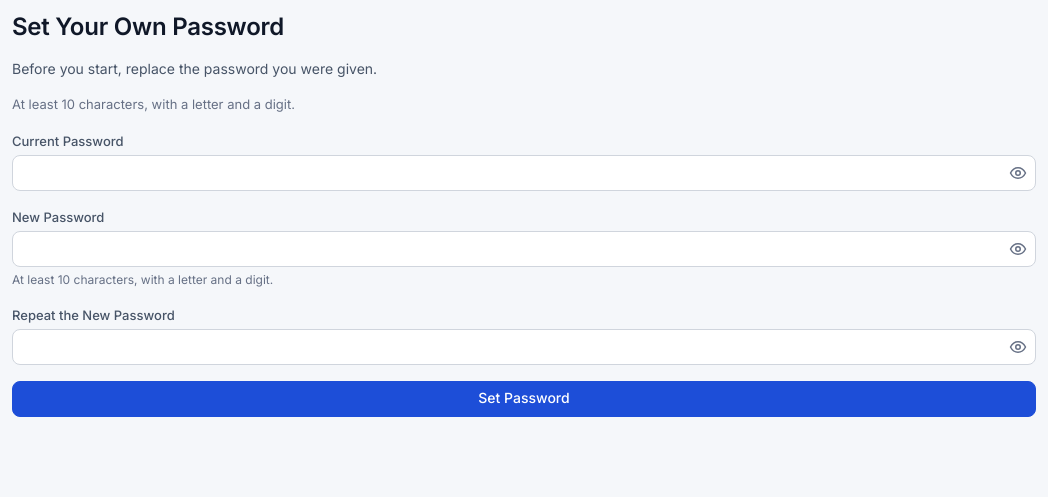
first sign-in › the password form shows the policy and the server's weak_password message
Check: the 1st text "At least 10 characters, with a letter and a digit." is shown, box top-left (12, 96), bottom-right (295, 112)
Type "temporary-1" into the password field labelled "Current Password" at (524, 172), box top-left (12, 154), bottom-right (1036, 190)
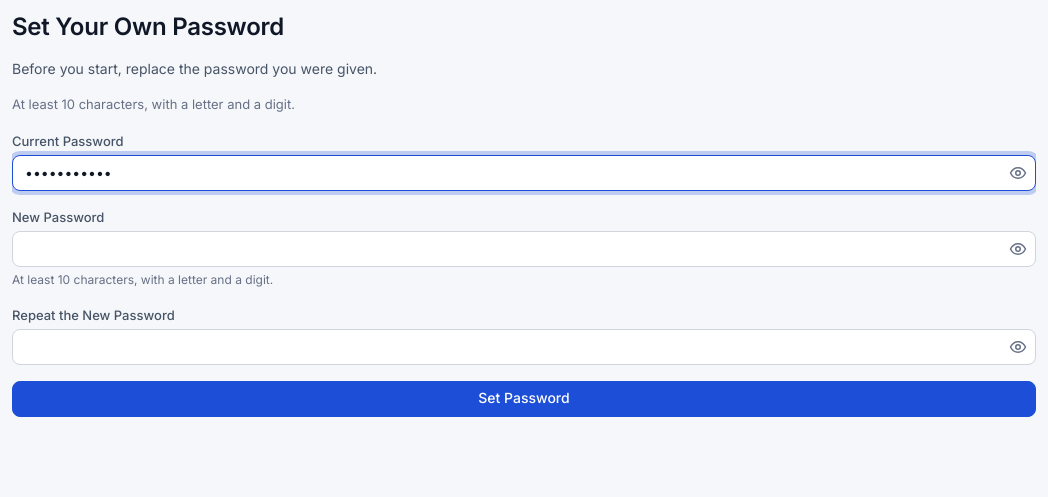
Type "abcdefghijk" into the password field labelled "New Password" at (524, 248), box top-left (12, 230), bottom-right (1036, 266)
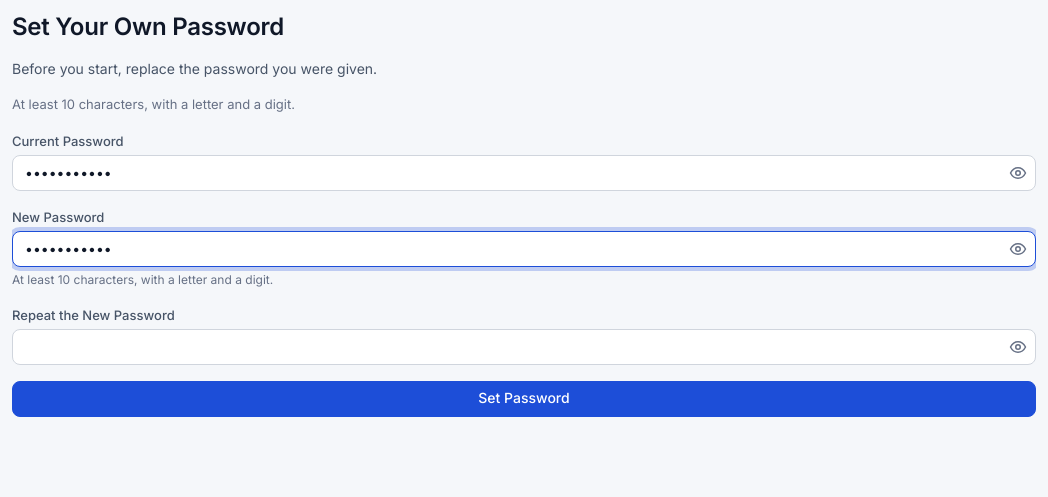
Type "abcdefghijk" into the password field labelled "Repeat the New Password" at (524, 346), box top-left (12, 328), bottom-right (1036, 364)
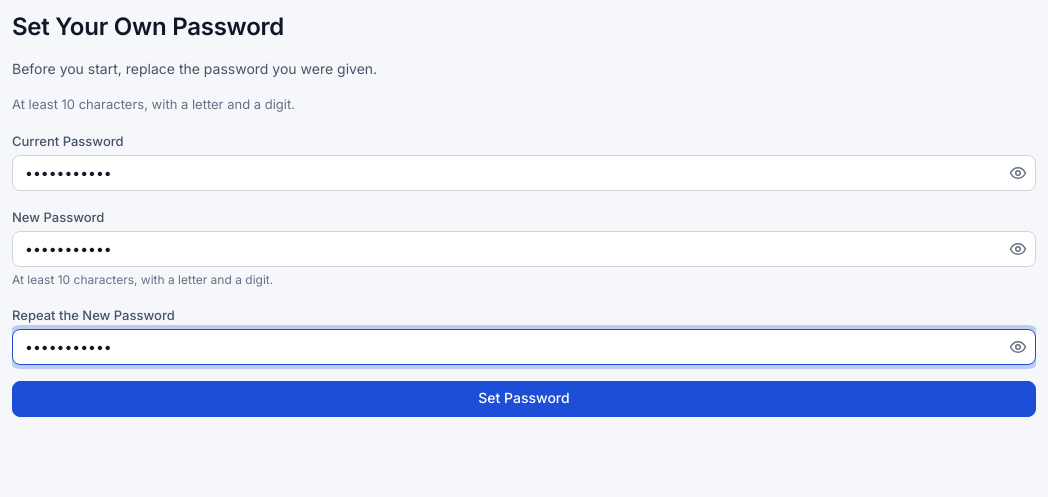
Click the button "Set Password" at (524, 398), box top-left (12, 380), bottom-right (1036, 416)
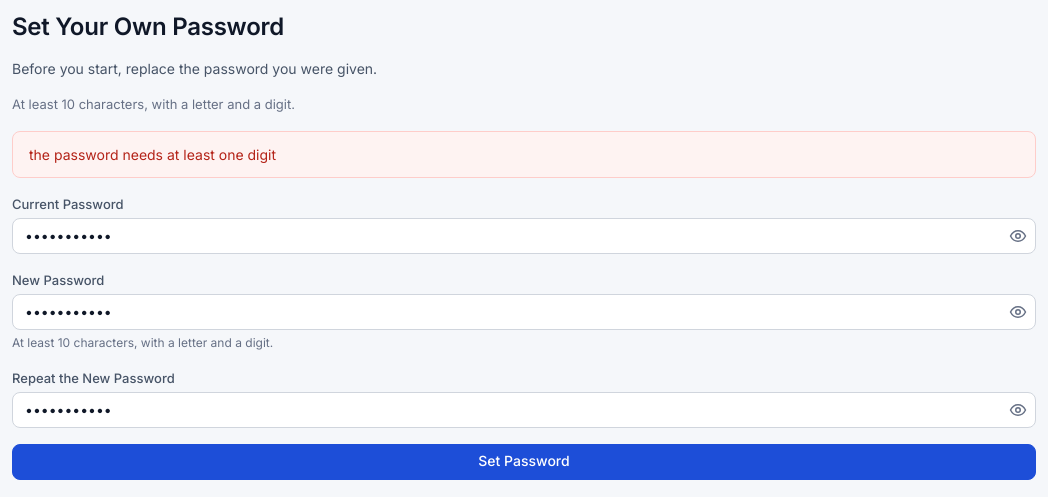
Check: the message reads "the password needs at least one digit", box top-left (29, 146), bottom-right (276, 162)
